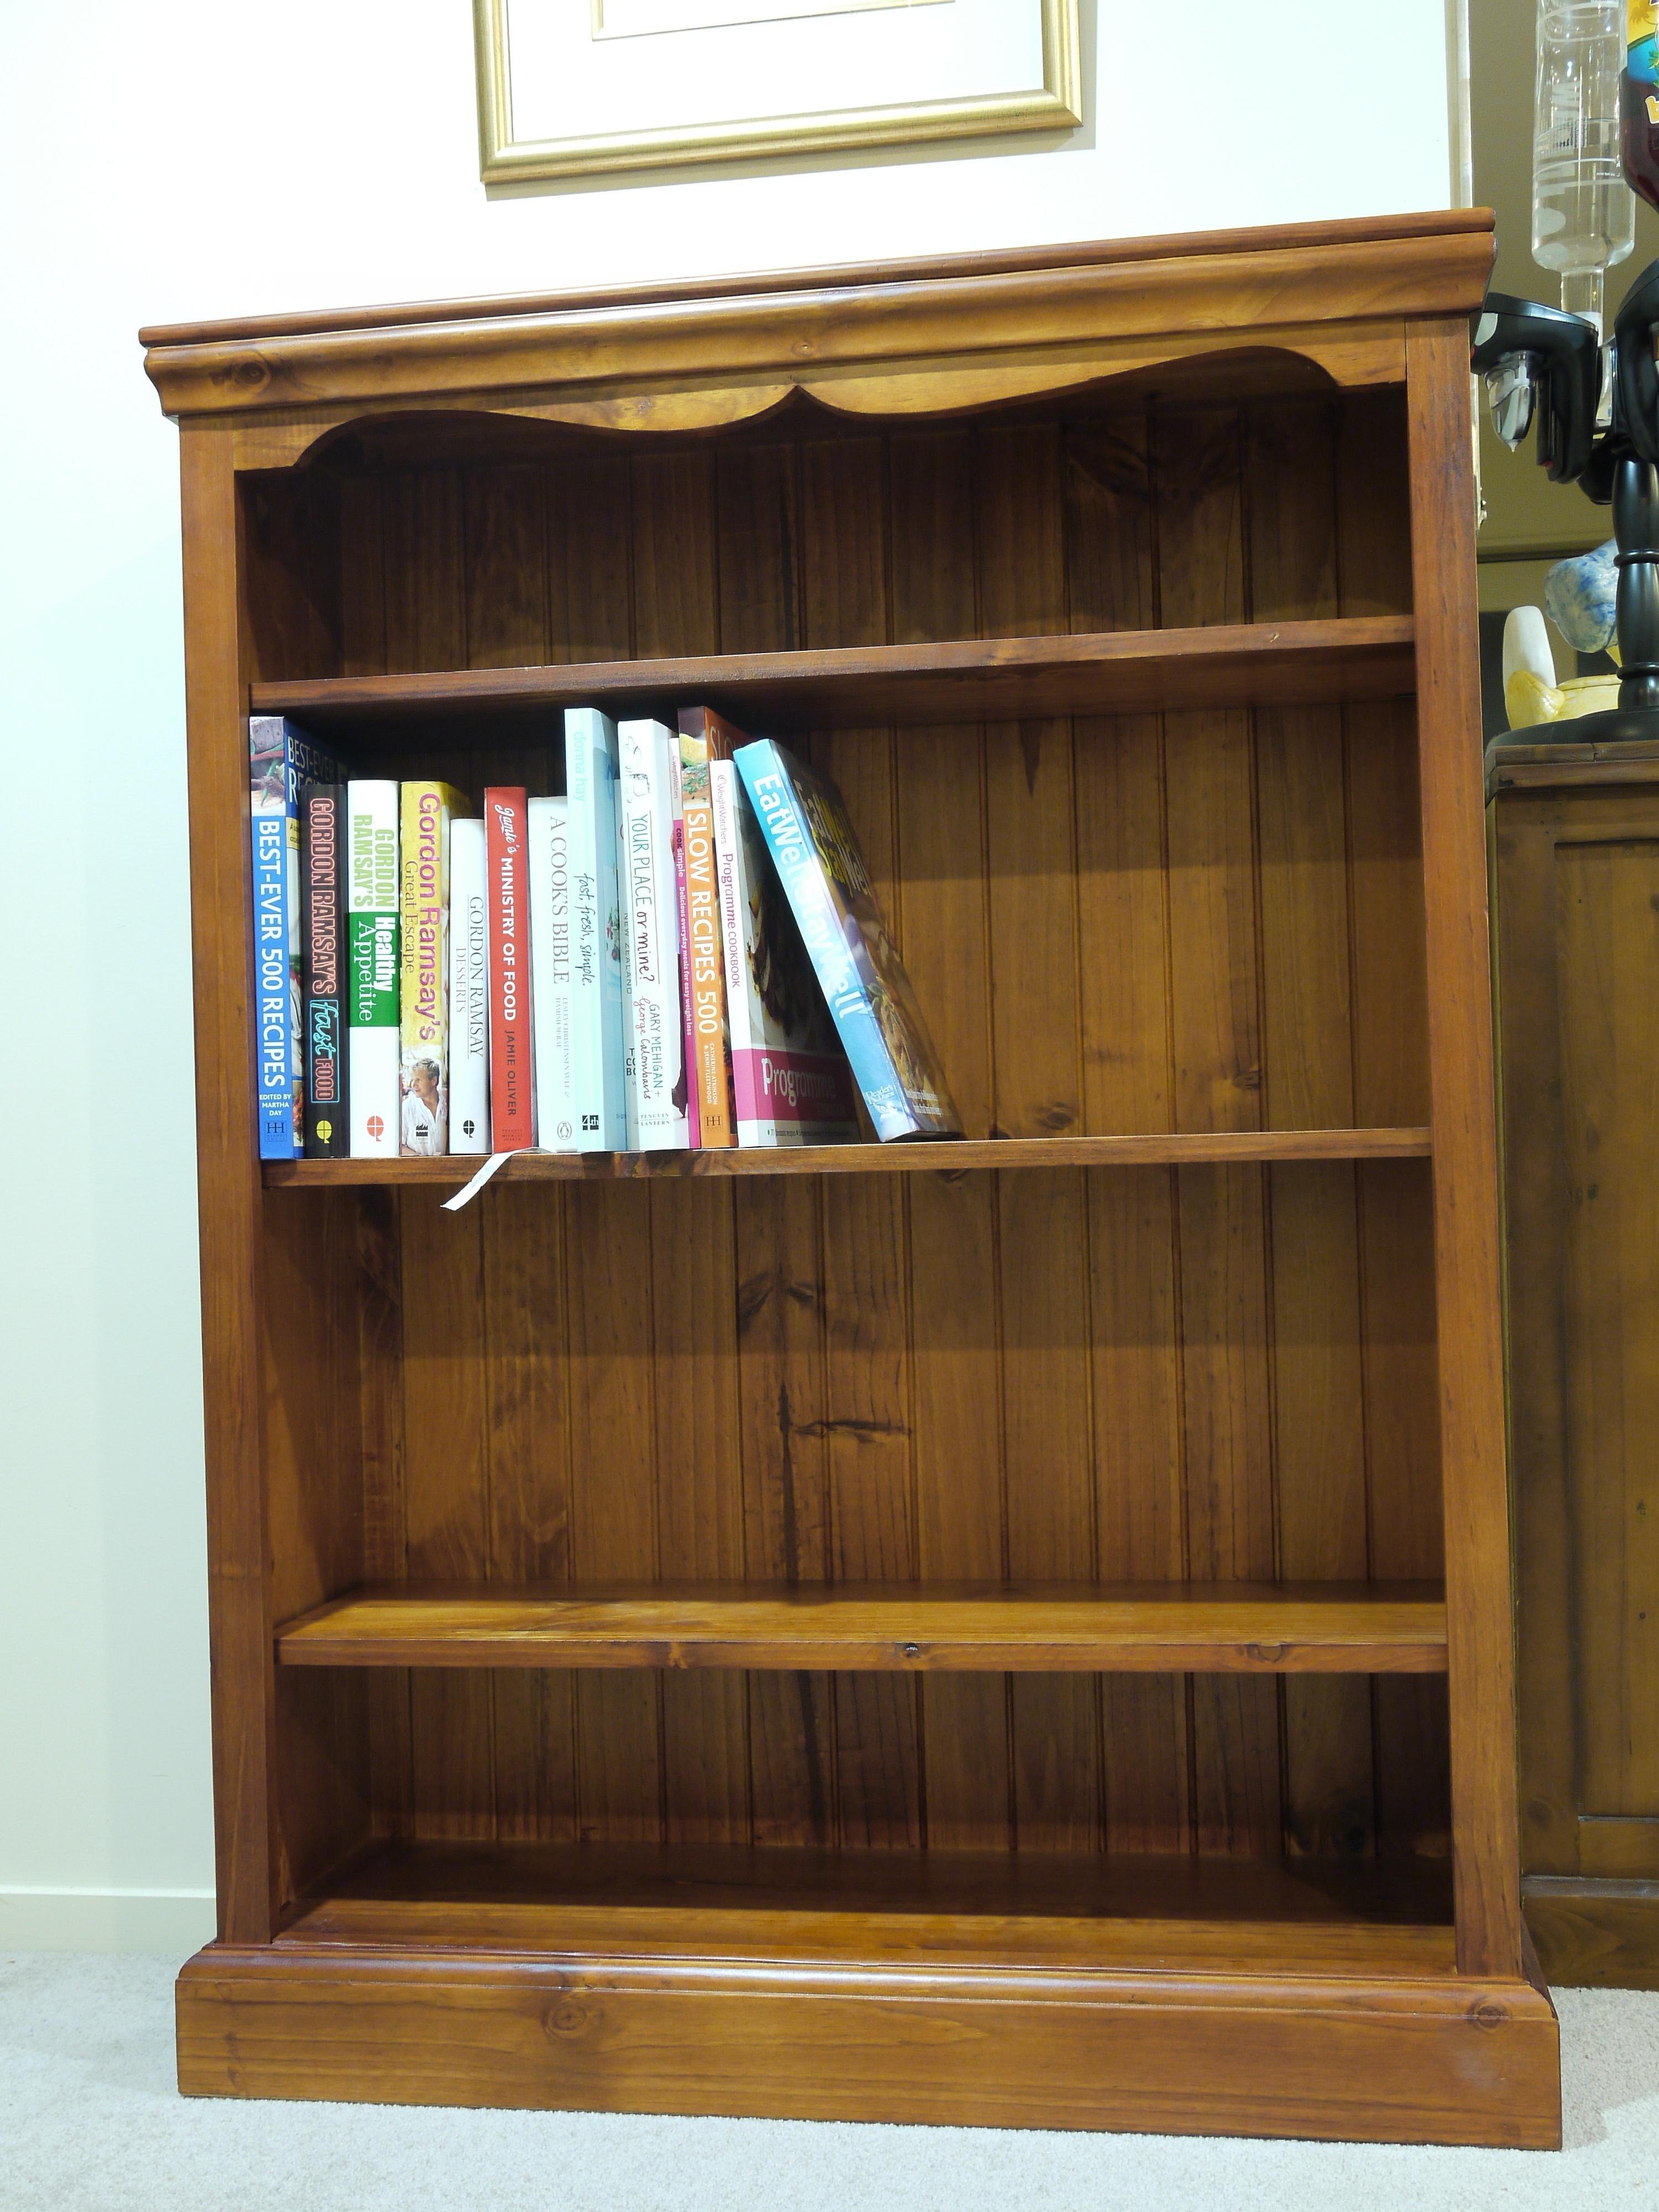Rak: (145, 214, 1556, 2041)
